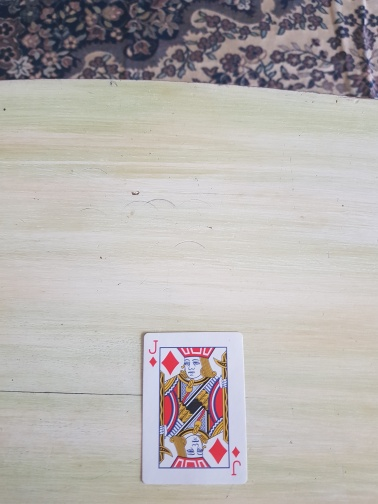jack: (140, 330, 248, 486)
